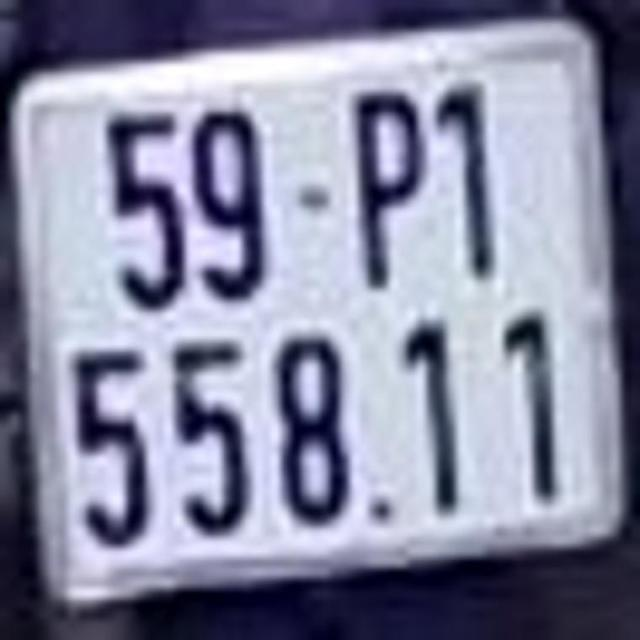1: (500, 306, 570, 506), (436, 80, 503, 282), (402, 318, 470, 517)
5: (101, 107, 190, 312), (67, 342, 154, 551), (170, 335, 252, 537)
8: (273, 328, 351, 528)
9: (191, 103, 270, 304)
P: (348, 89, 428, 292)
